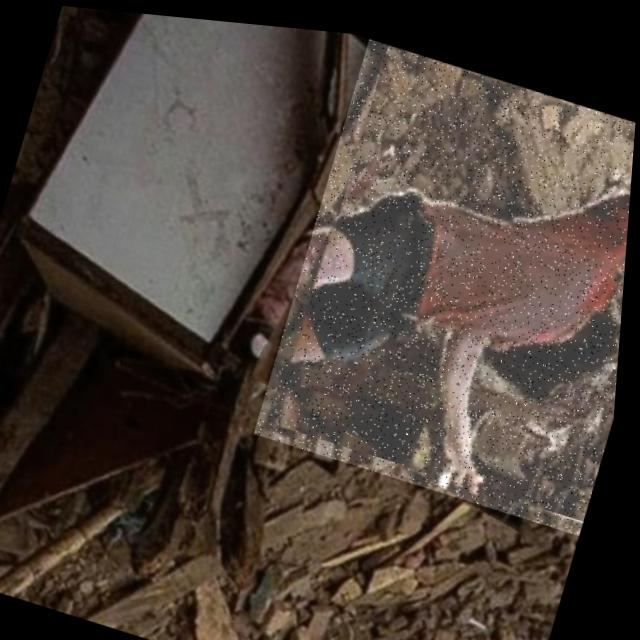Person in Rubble: (254, 24, 640, 524)
